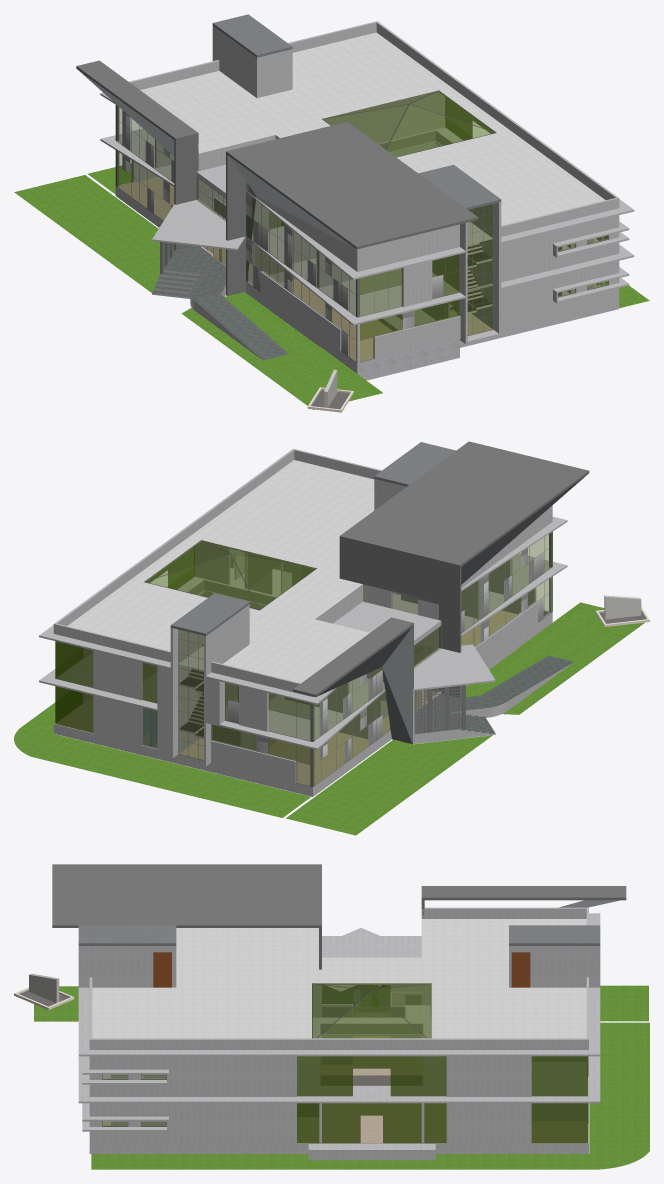
Rendered from Zone01.glb.
The picture shows the model from 3 angles, top to bottom: view 1: azimuth 30°, elevation 25°; view 2: azimuth 150°, elevation 25°; view 3: azimuth 270°, elevation 25°; orthographic projection. The views are drawn at different scales.
Size of the model in its own units: 35.07 by 14.02 by 50.96.
26 materials, 15 textured.
